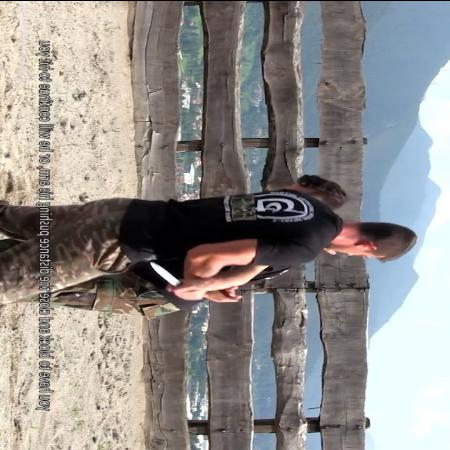long weapon: (148, 260, 210, 301)
